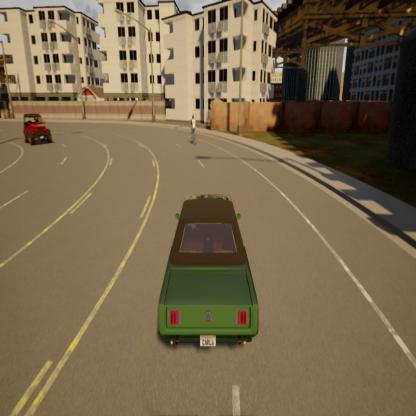Cars: (155, 184, 264, 368), (21, 111, 55, 151)
